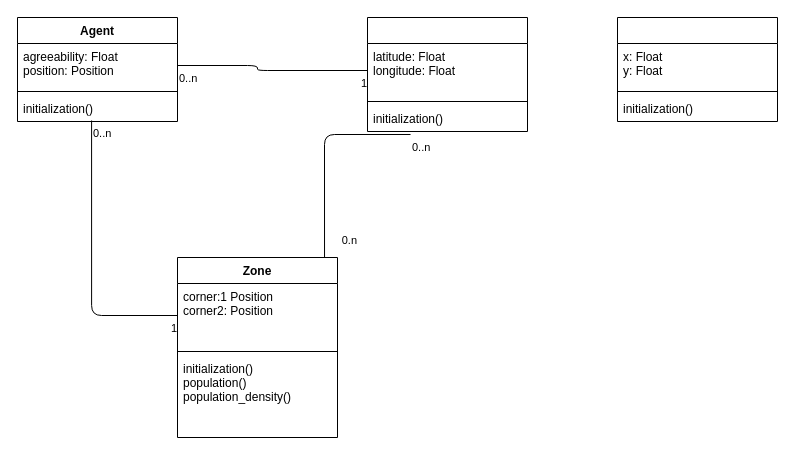
The diagram is 795 pixels wide and 458 high, and some of its shapes have lost their labels. The box of each missing label's shape, as (x1, y1, x2, y2) in pixels:
Graph: (616, 16, 778, 122)
Position: (366, 16, 528, 132)
